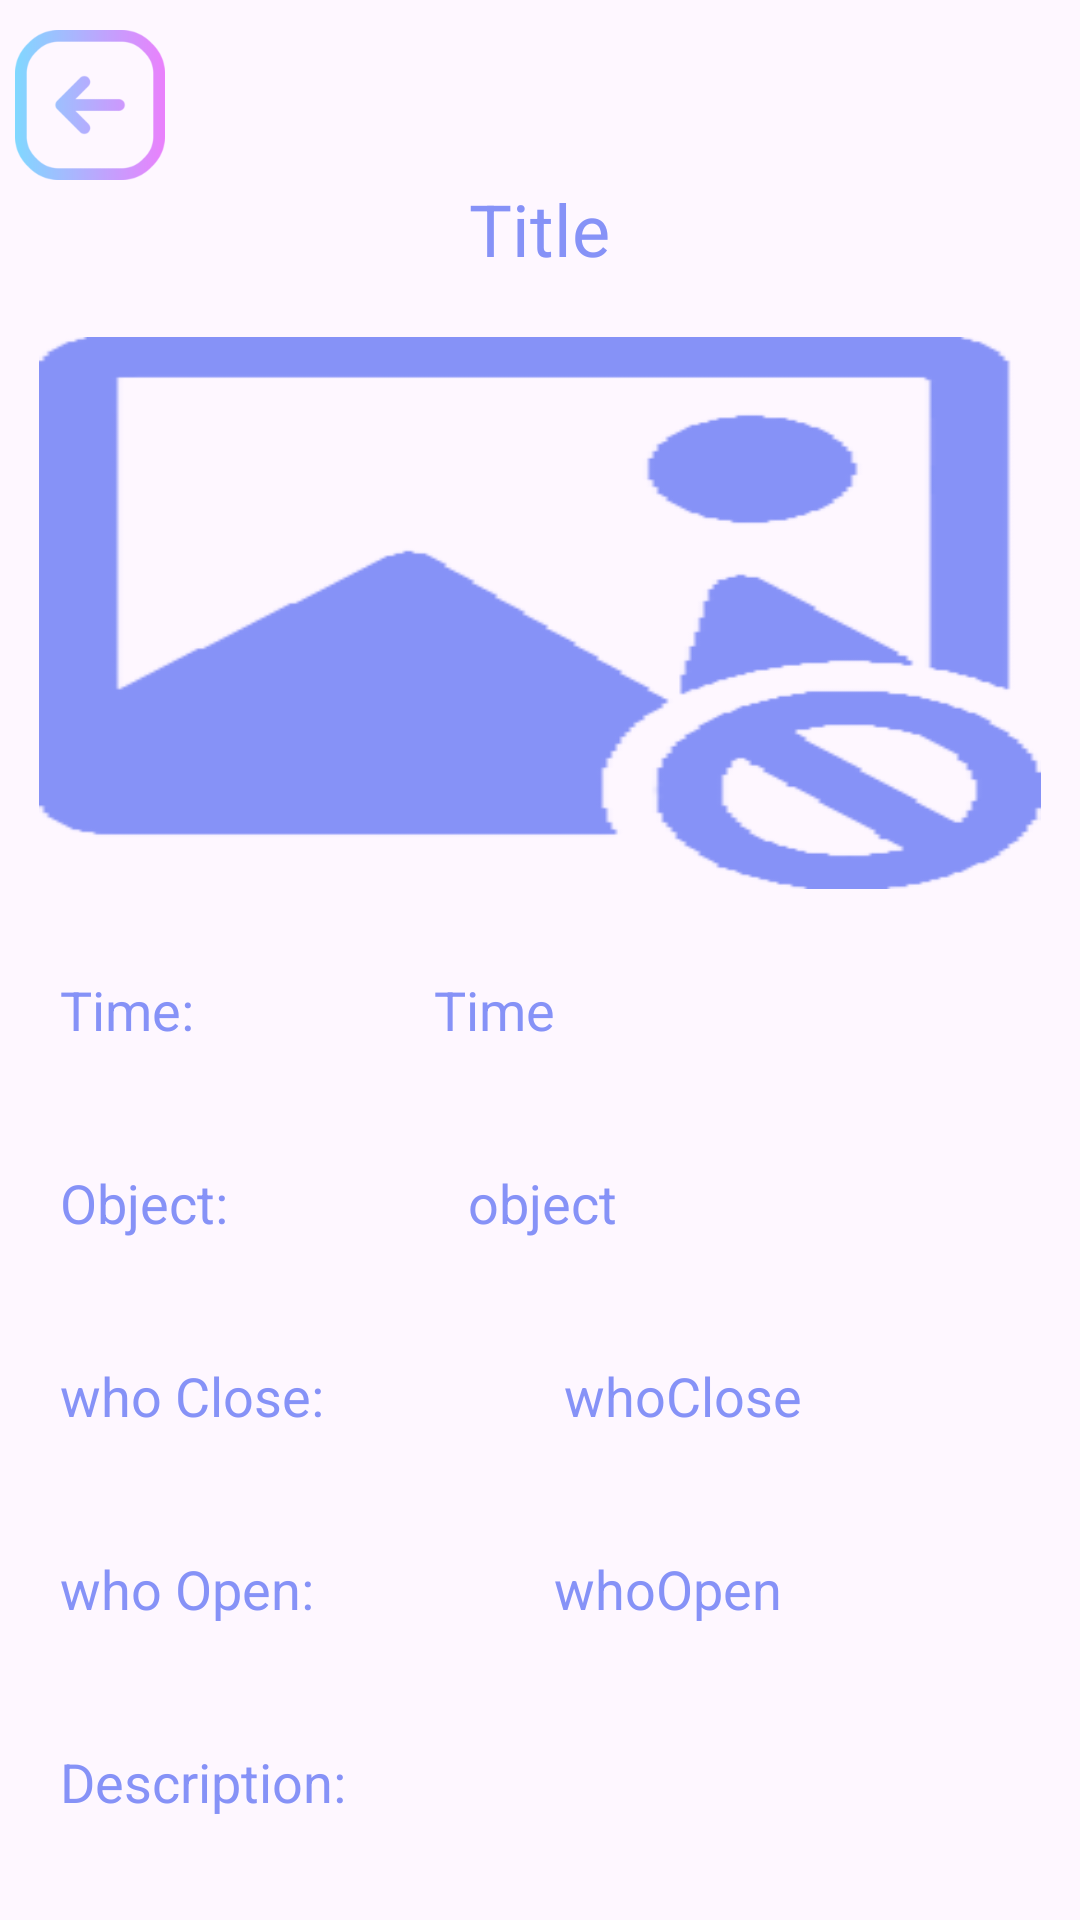

Named icons in this screenshot (1080 × 1920) and their bounding boxes, (x1, y1, x2, y2):
backicon: (15, 30, 165, 180)
